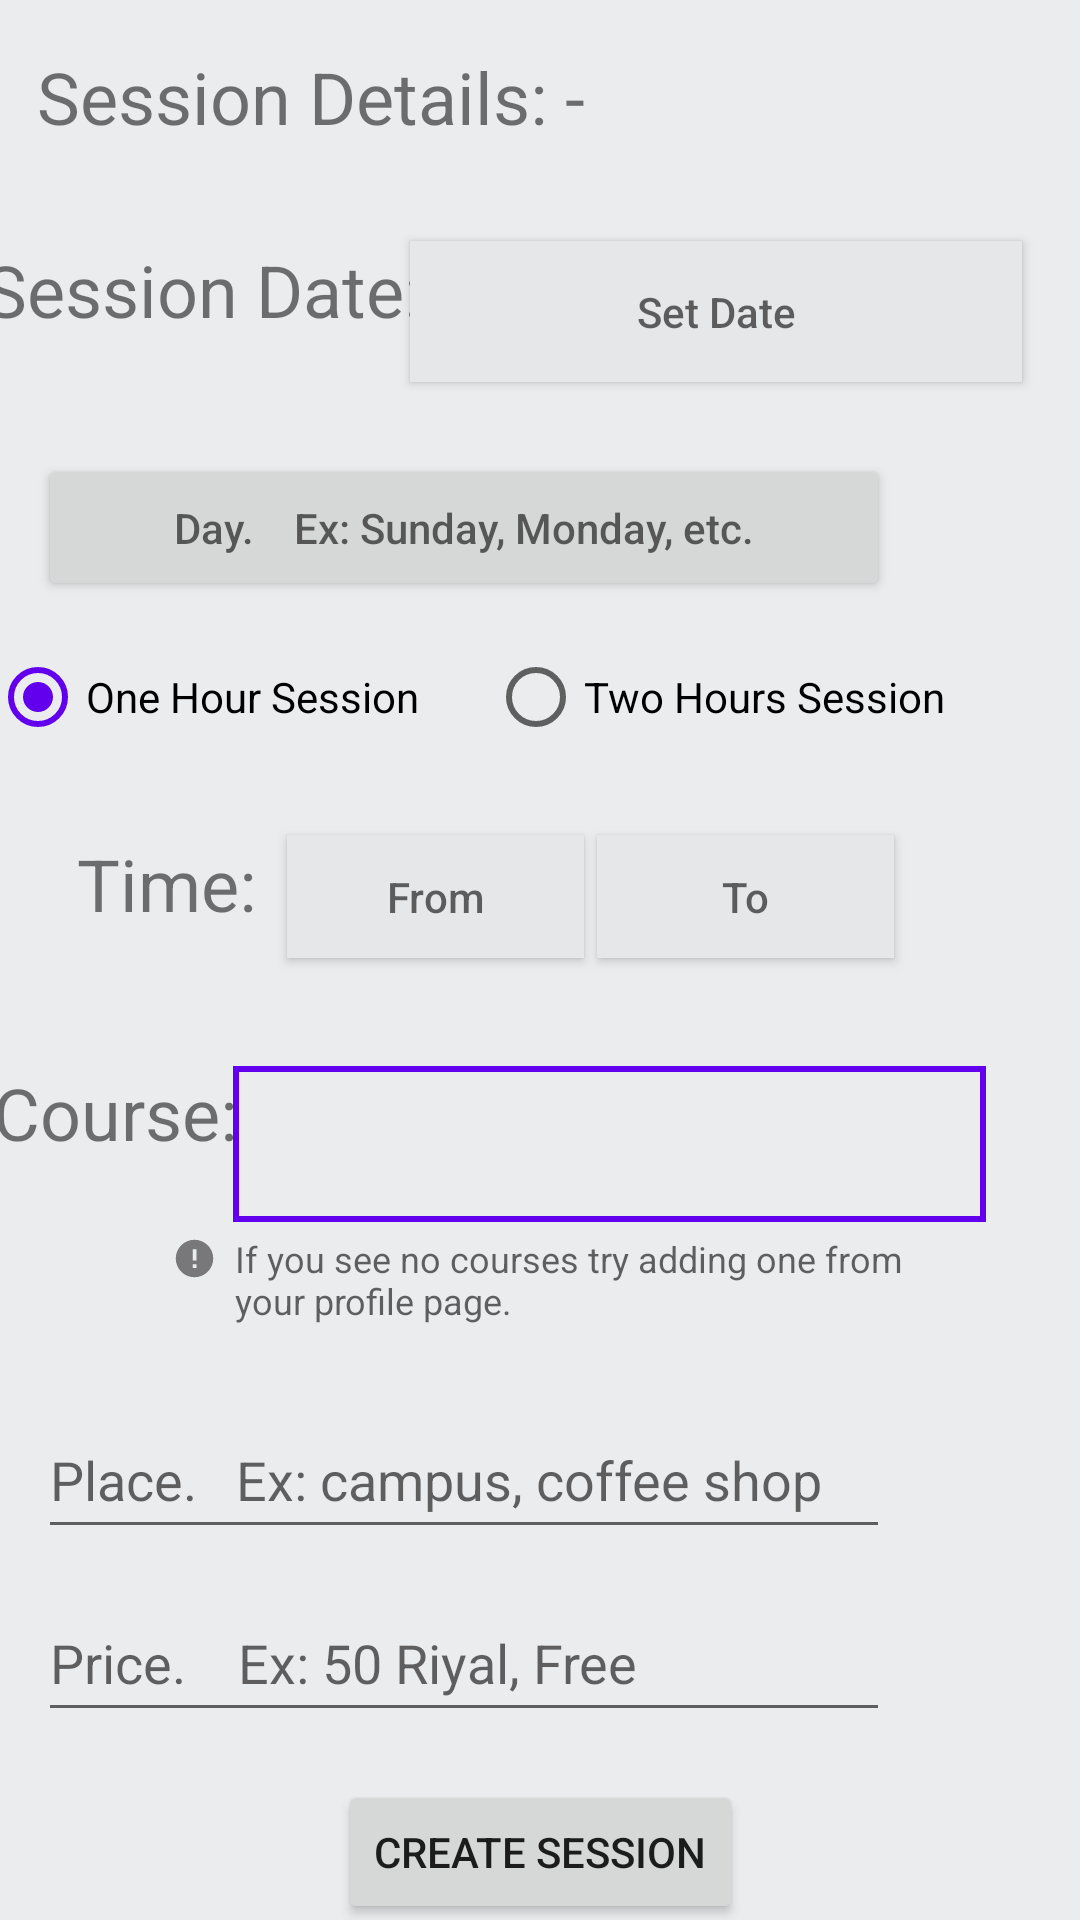

Screen size 1080x1920. Icon name, then its center in pixels as (x,y):
error: (194,1258)
